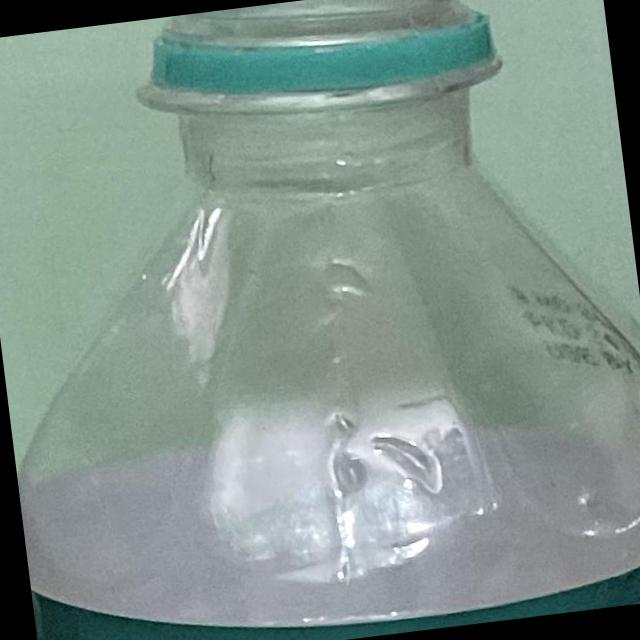open-cap: (132, 0, 499, 137)
